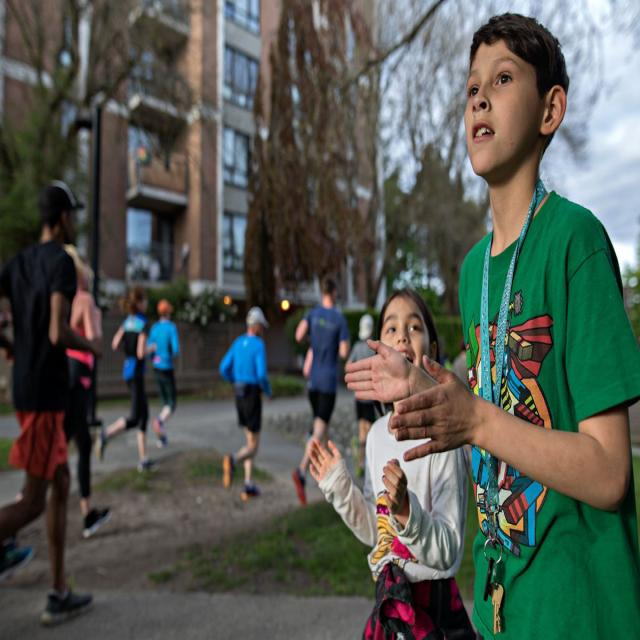body: (340, 7, 640, 639), (303, 282, 480, 640), (0, 176, 108, 634), (290, 270, 352, 512), (64, 254, 113, 539), (92, 284, 160, 475), (216, 302, 276, 504), (142, 296, 184, 450), (344, 313, 379, 476), (437, 337, 473, 394), (290, 342, 310, 378)
